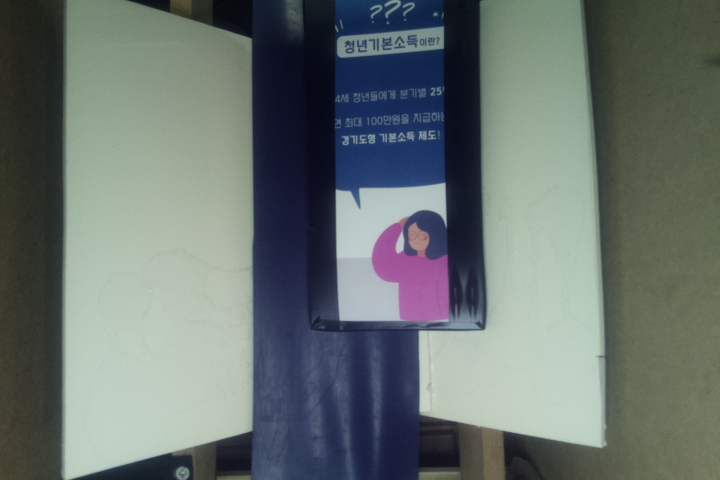book: (312, 1, 483, 332)
